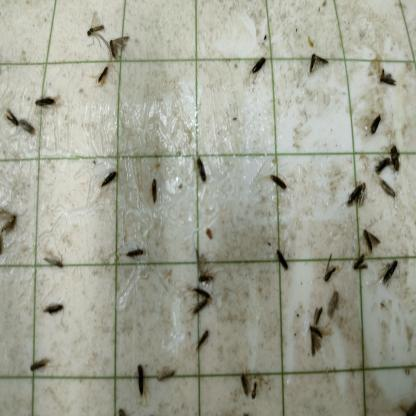prays_oleae: (24, 348, 55, 382), (86, 10, 108, 51), (38, 294, 67, 325), (235, 374, 266, 403), (194, 258, 220, 292), (380, 252, 404, 287), (344, 180, 369, 212), (30, 86, 58, 114), (0, 202, 23, 235), (121, 237, 148, 265), (188, 155, 212, 185), (304, 324, 328, 354), (378, 179, 412, 200), (187, 292, 209, 324), (141, 176, 164, 206), (360, 226, 380, 258), (270, 166, 290, 196), (189, 328, 214, 352), (18, 114, 38, 143), (305, 51, 329, 75), (107, 36, 129, 62), (100, 168, 121, 195), (374, 70, 399, 92), (327, 290, 343, 322), (364, 114, 387, 136), (248, 57, 268, 82), (374, 153, 393, 178), (321, 254, 338, 281), (354, 256, 373, 280), (276, 242, 292, 270), (44, 250, 64, 272), (2, 108, 20, 132), (132, 368, 150, 392), (156, 368, 183, 384), (96, 65, 110, 89), (192, 284, 210, 300), (392, 146, 405, 168)
